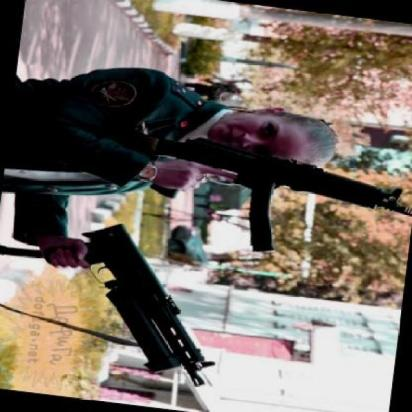Gun: (98, 129, 412, 248), (80, 224, 224, 385)
